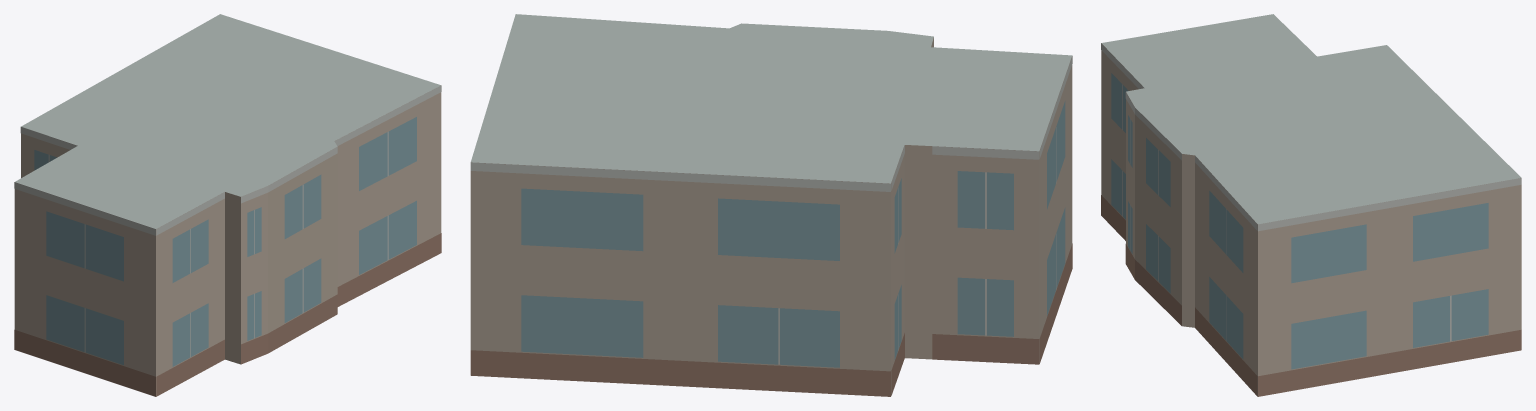
The model's file is survey-upis-32854681.glb.
3 renders of one model, left to right at view 1: azimuth 30°, elevation 25°; view 2: azimuth 150°, elevation 25°; view 3: azimuth 270°, elevation 25°, orthographic. The views are drawn at different scales.
Visible parts, largest first — view 1: survey-upis-32854681.tmp; view 2: survey-upis-32854681.tmp; view 3: survey-upis-32854681.tmp.
Boxes of the visible parts, left/top/right/bottom form: survey-upis-32854681.tmp: left=14, top=14, right=441, bottom=396; survey-upis-32854681.tmp: left=470, top=14, right=1072, bottom=396; survey-upis-32854681.tmp: left=1101, top=14, right=1521, bottom=396.
Bounding box in the file's own units: 15.97 × 6.1 × 13.49.
